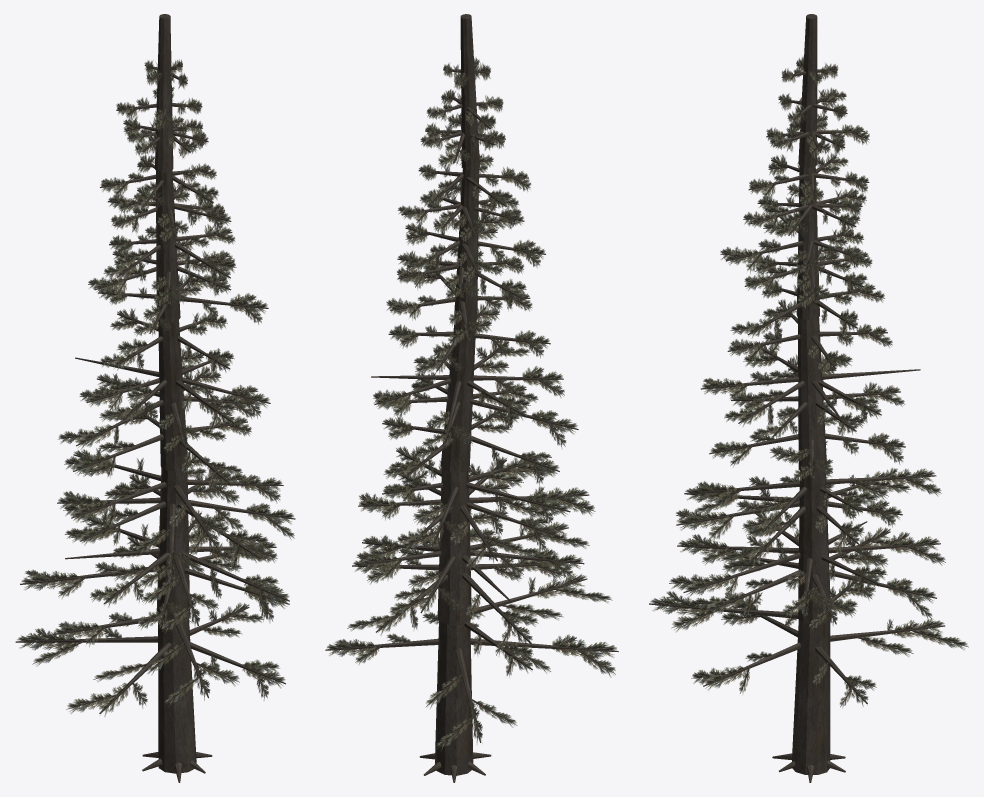
File: widowpine_tree_a.glb
The picture shows the model from 3 angles, left to right: view 1: azimuth 30°, elevation 25°; view 2: azimuth 150°, elevation 25°; view 3: azimuth 270°, elevation 25°; orthographic projection.
Visible parts, largest first — view 1: WidowpineTreeA; view 2: WidowpineTreeA; view 3: WidowpineTreeA.
Part boxes in pixels (<box>): WidowpineTreeA: <box>15,14,295,782</box>; WidowpineTreeA: <box>325,14,618,782</box>; WidowpineTreeA: <box>649,14,968,782</box>.
Bounding box in the file's own units: 7.33 × 22.02 × 8.62.
2 materials, 2 textured.
